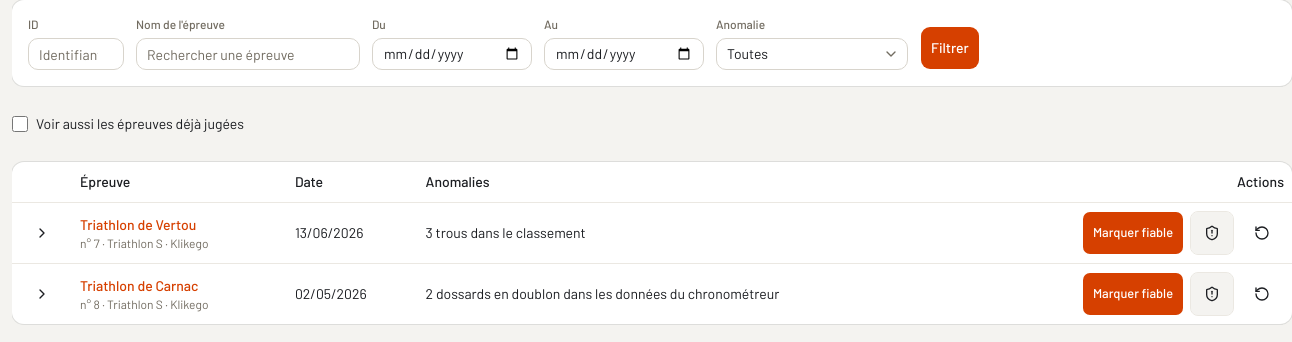
Test case: QualityQueueTable › le filtre par anomalie restreint les lignes affichées
This screenshot has width=1292, height=342.
Expected: the link "Triathlon de Vertou" is shown, top-left (80, 216), bottom-right (196, 232)
Click the dropdown named "anomalie": (812,54) top-left (716, 38), bottom-right (908, 70)
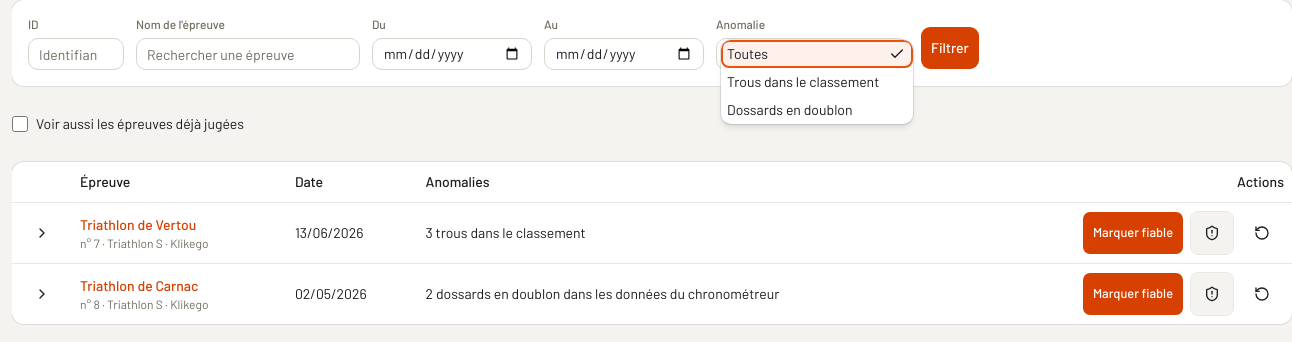
Click the option "Trous dans le classement": (803,82) top-left (727, 73), bottom-right (879, 90)
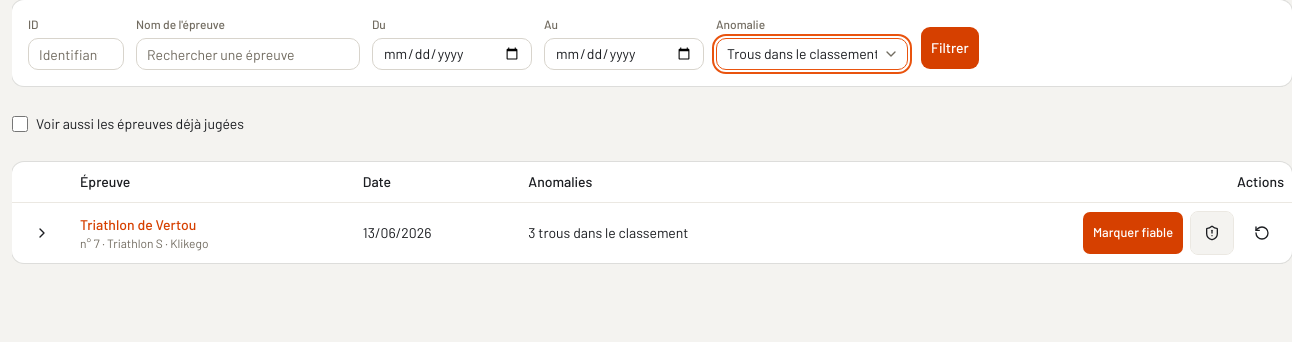
Expected: the link "Triathlon de Vertou" is shown, top-left (80, 216), bottom-right (196, 232)
Now the link "Triathlon de Carnac" is gone
